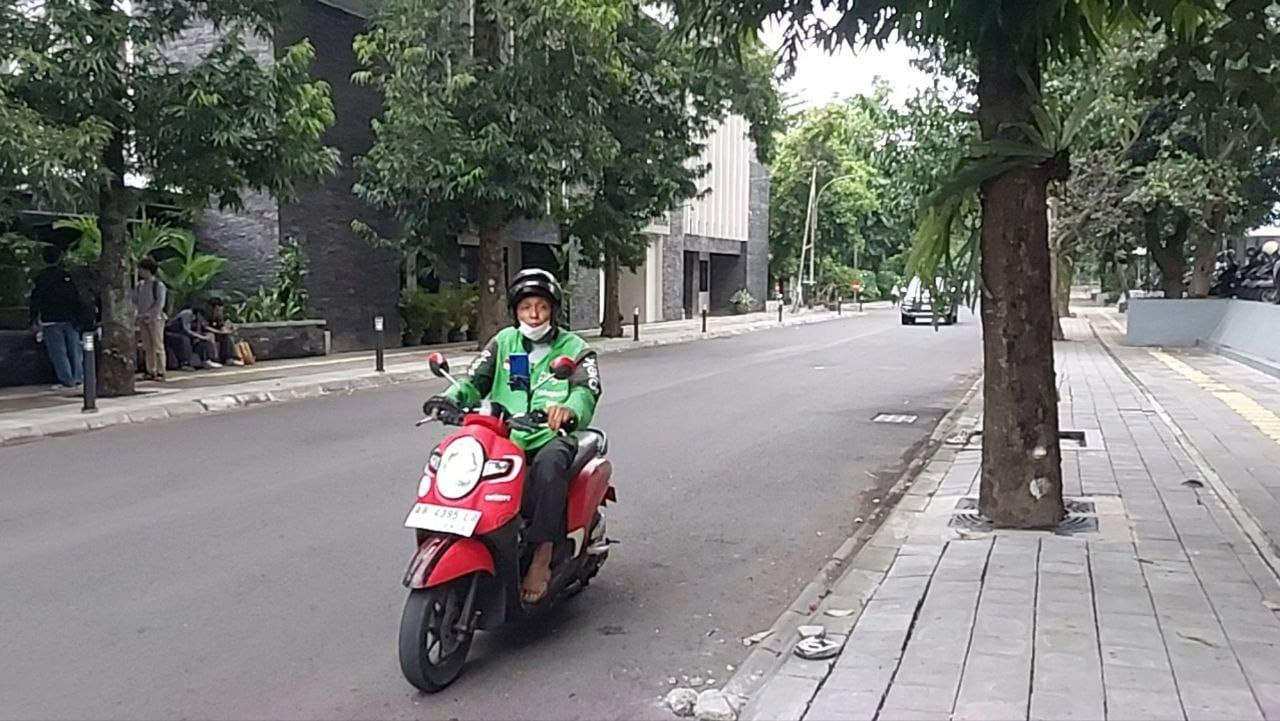helm: (502, 265, 566, 343)
riding: (395, 262, 625, 697)
